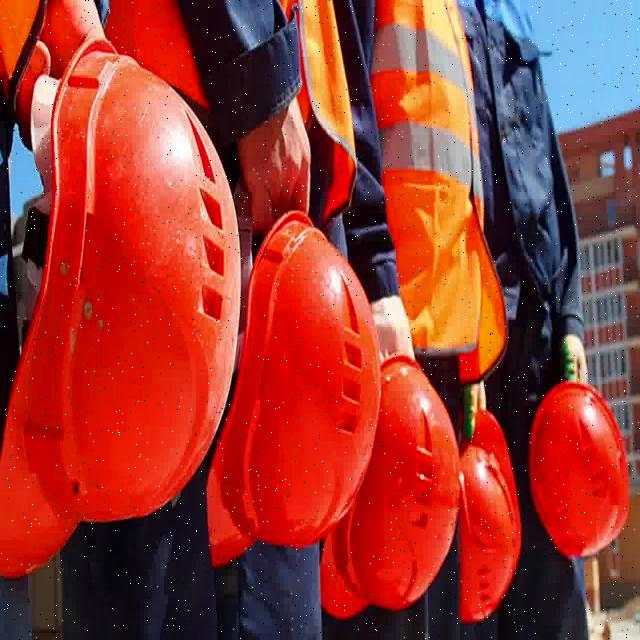Hard_hat: (8, 40, 241, 582), (215, 202, 376, 566), (352, 366, 463, 607), (463, 416, 522, 632)
Vest: (524, 382, 634, 560)
